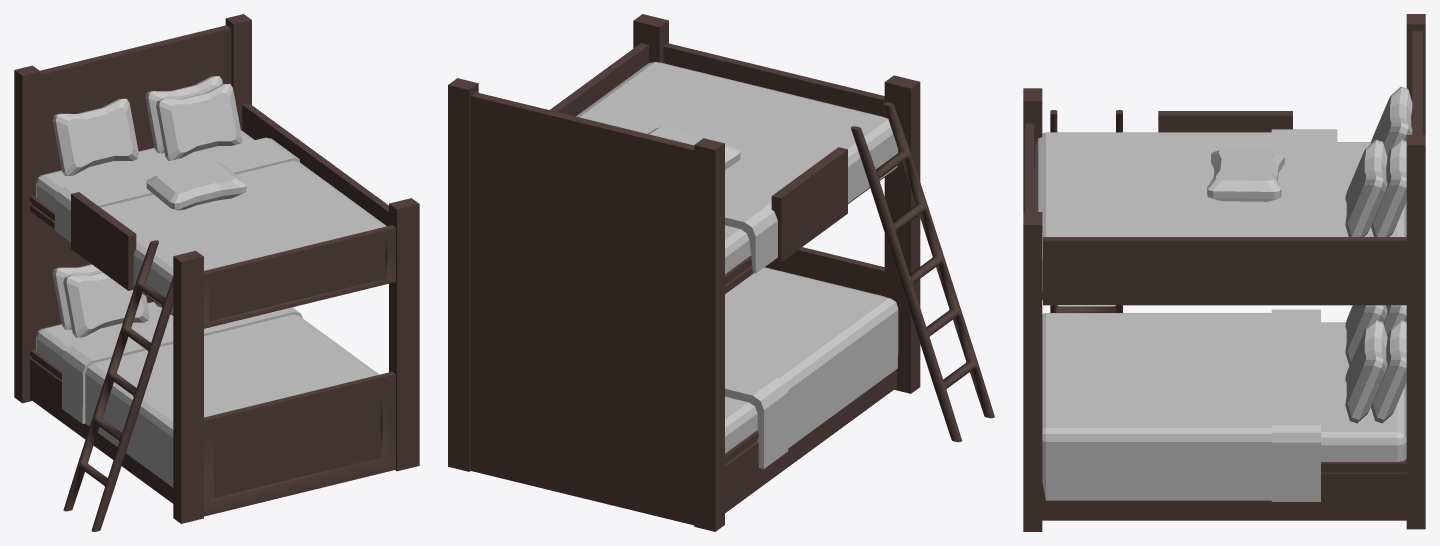
Rendered from Bunkbed.fbx.
The picture shows the model from 3 angles, left to right: view 1: azimuth 30°, elevation 25°; view 2: azimuth 150°, elevation 25°; view 3: azimuth 270°, elevation 25°; orthographic projection. The views are drawn at different scales.
Parts seen in each view (by area): view 1: Bed.001; view 2: Bed.001; view 3: Bed.001.
Boxes of the visible parts, x1=… form: Bed.001: x1=14, y1=14, x2=419, y2=531; Bed.001: x1=448, y1=14, x2=994, y2=531; Bed.001: x1=1023, y1=14, x2=1425, y2=531.
Bounding box in the file's own units: 210 × 209 × 199.
